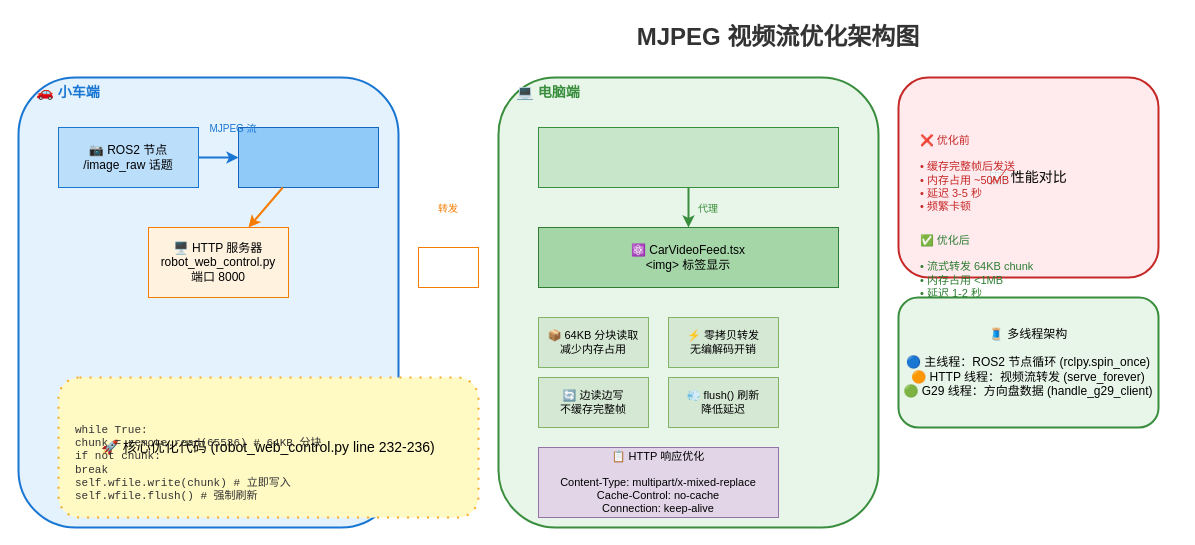
This 1195x545 diagram has some shape labels left out. Here are the shapes that lost their labels. From the top down, the centre of each, then its label:
pixel 308 157: 🌐 web_video_server 端口 8080
pixel 688 157: 🔄 video-proxy-lowlatency.cjs 端口 8001
pixel 448 267: WiFi/局域网 MJPEG over HTTP
